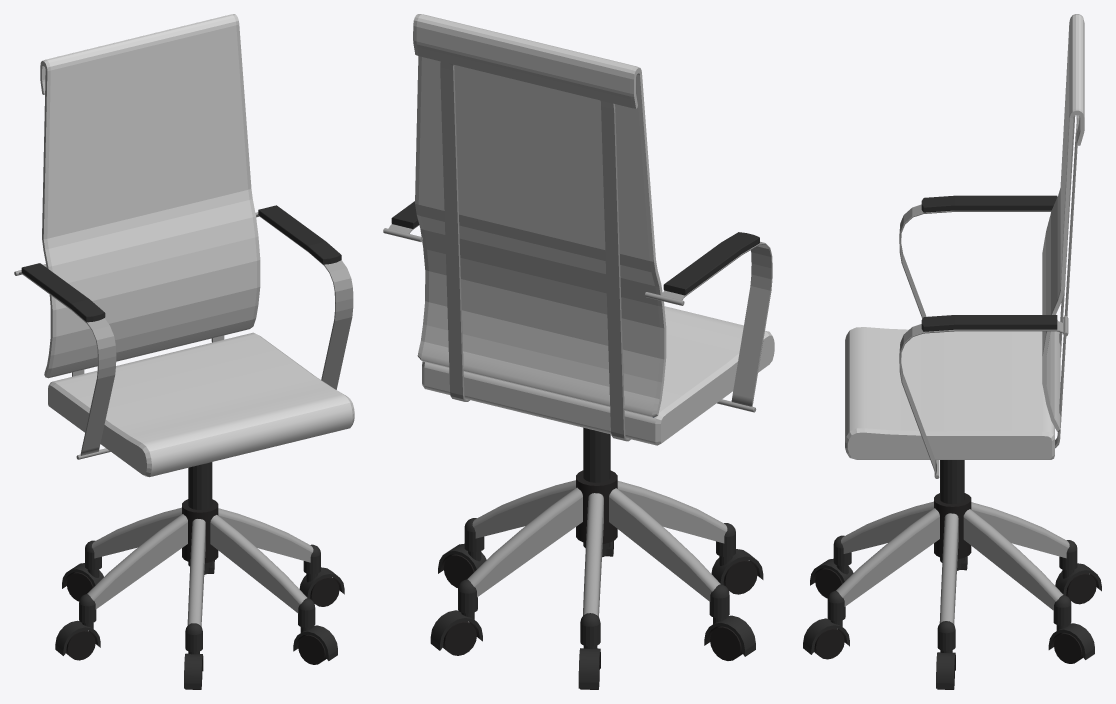
File: chair.FBX
3 views of the same model, side by side, from view 1: azimuth 30°, elevation 25°; view 2: azimuth 150°, elevation 25°; view 3: azimuth 270°, elevation 25° (orthographic). The views are drawn at different scales.
Visible parts, largest first — view 1: Chair_Chair_sep41_auv; view 2: Chair_Chair_sep41_auv; view 3: Chair_Chair_sep41_auv.
Part boxes in pixels (x1,y1,x2,y2): Chair_Chair_sep41_auv: [14, 14, 354, 689]; Chair_Chair_sep41_auv: [383, 14, 774, 689]; Chair_Chair_sep41_auv: [803, 14, 1101, 689].
Size of the model in its own units: 65.72 by 125 by 59.94.
Materials: 1 (1 with a texture image).
